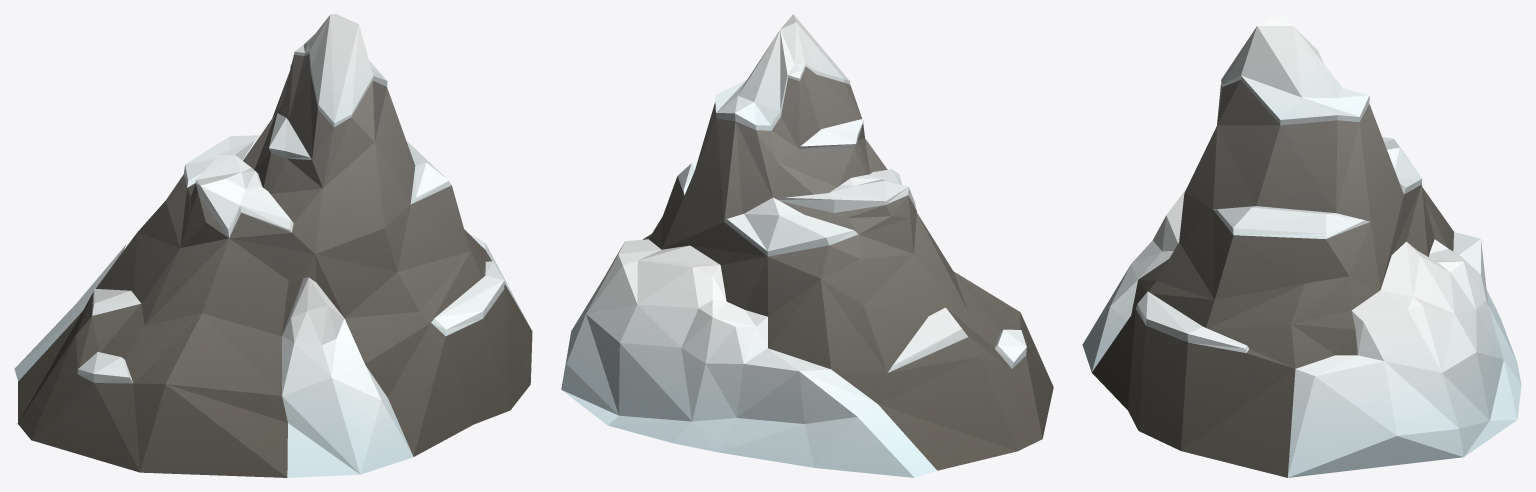
File: HX-shan2.FBX
3 renders of one model, left to right at view 1: azimuth 30°, elevation 25°; view 2: azimuth 150°, elevation 25°; view 3: azimuth 270°, elevation 25°, orthographic. The views are drawn at different scales.
Parts seen in each view (by area): view 1: shan2; view 2: shan2; view 3: shan2.
Boxes of the visible parts, left/top/right/bottom form: shan2: left=14, top=14, right=532, bottom=477; shan2: left=561, top=14, right=1053, bottom=477; shan2: left=1082, top=14, right=1521, bottom=477.
Size of the model in its own units: 13027 by 9421 by 10272.
